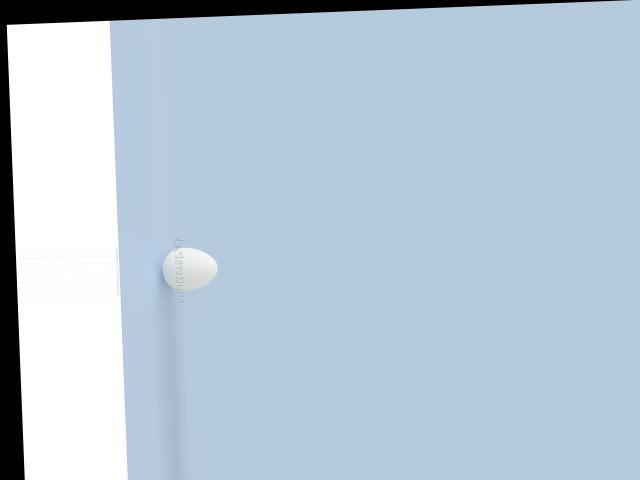egg: (161, 245, 218, 291)
